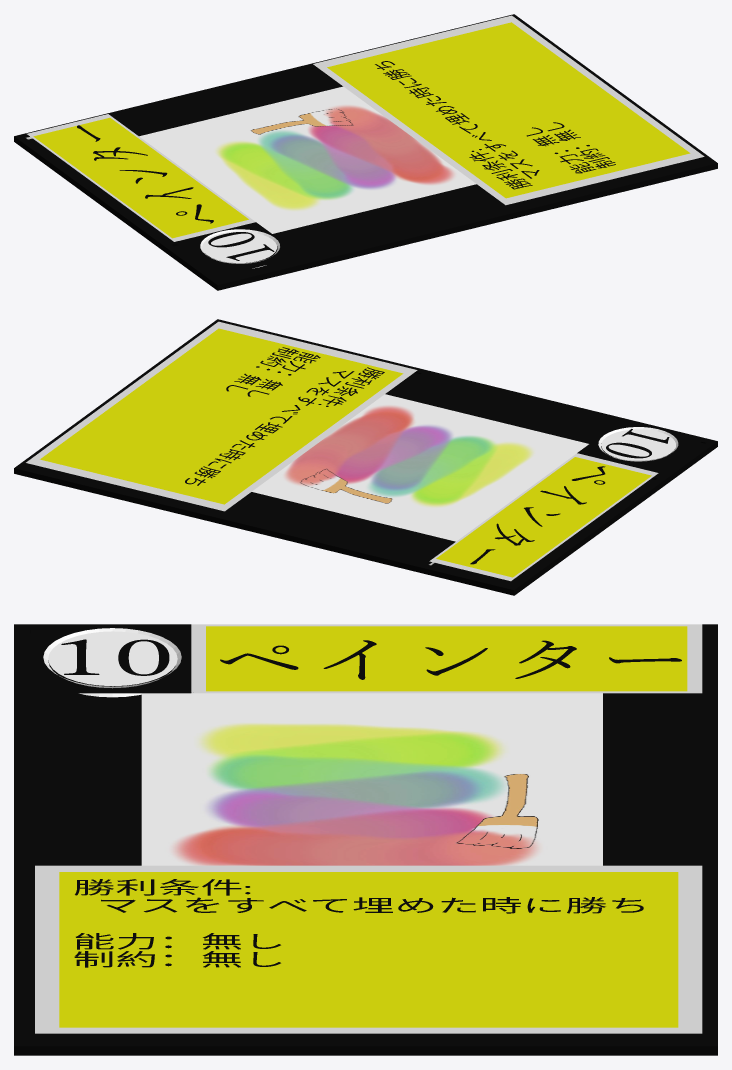
Rendered from ペインター黒.fbx.
3 renders of one model, top to bottom at view 1: azimuth 30°, elevation 25°; view 2: azimuth 150°, elevation 25°; view 3: azimuth 270°, elevation 25°, orthographic. The views are drawn at different scales.
Parts seen in each view (by area): view 1: 説明欄, 平面.001, カード本体.001, 名前欄, 説明文, 平面, 円, 名前, コスト; view 2: 説明欄, 平面.001, カード本体.001, 名前欄, 説明文, 平面, 円, 名前, コスト; view 3: 説明欄, 平面.001, カード本体.001, 名前欄, 説明文, 平面, 円, 名前, コスト蘭, コスト.
Part boxes in pixels (x1,y1,x2,y2): 説明欄: (313,15,704,205); 平面.001: (139,86,476,233); カード本体.001: (14,14,717,290); 名前欄: (27,114,255,241); 説明文: (375,61,615,189); 平面: (174,222,302,275); 円: (202,231,276,262); 名前: (77,125,213,223); コスト: (208,232,274,260); 説明欄: (26,321,417,511); 平面.001: (252,394,588,541); カード本体.001: (14,319,717,595); 名前欄: (429,453,658,581); 説明文: (185,347,384,485); 平面: (577,419,704,472); 円: (601,429,675,460); 名前: (470,466,605,564); コスト: (606,429,669,458); 説明欄: (35,865,702,1033); 平面.001: (141,693,602,865); カード本体.001: (14,624,717,1055); 名前欄: (191,624,702,693); 説明文: (74,879,643,967); 平面: (30,624,191,693); 円: (48,631,177,686); 名前: (220,640,681,679); コスト蘭: (43,628,181,697); コスト: (61,639,169,675).
Bounding box in the file's own units: 281 × 6.07 × 198.
